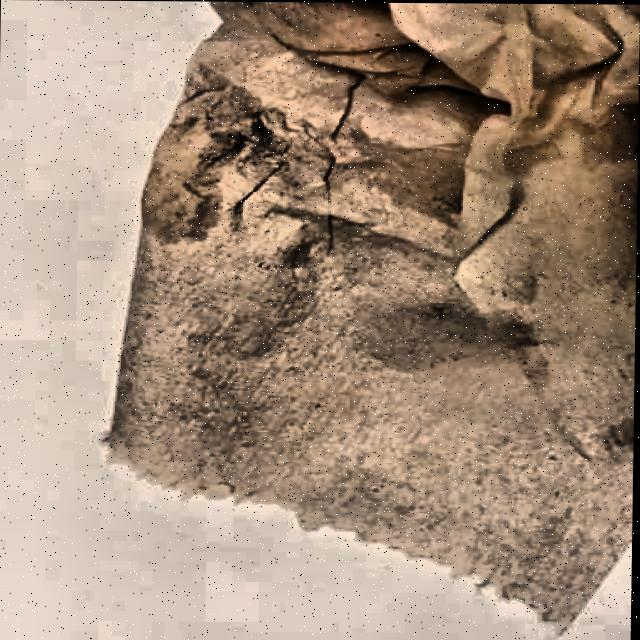paper: (96, 2, 640, 636)
